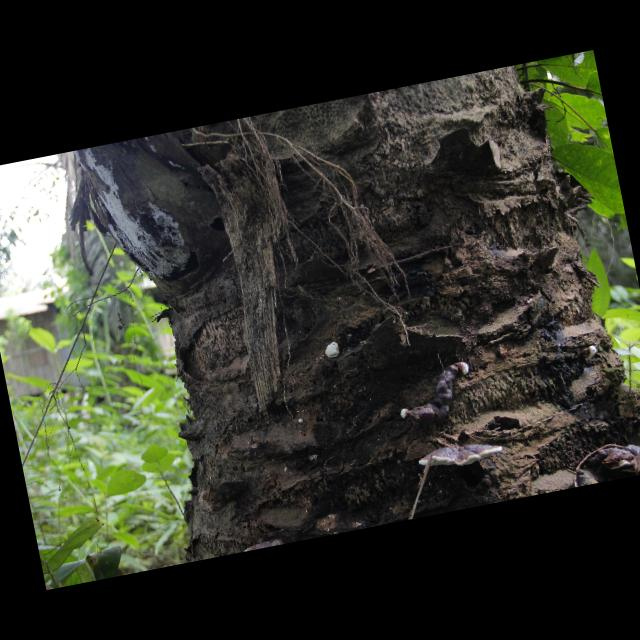ganoderma: (403, 364, 467, 429), (418, 436, 506, 476), (593, 444, 637, 475), (617, 438, 640, 477), (633, 414, 640, 431)
primordium: (580, 347, 600, 365), (325, 342, 343, 361), (457, 362, 471, 378), (400, 408, 411, 421), (299, 420, 305, 426)
